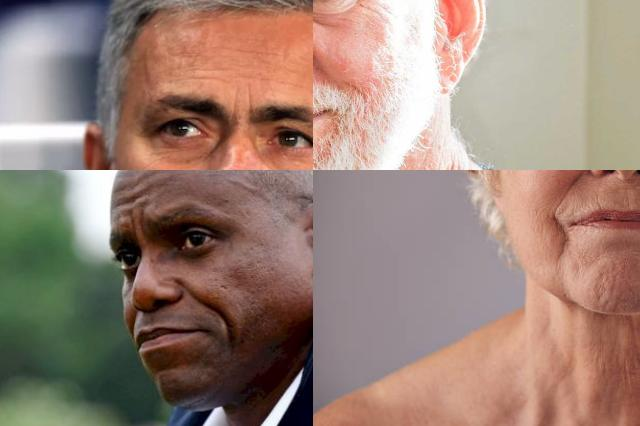chin: (594, 270, 614, 302)
crows_feet: (356, 0, 386, 12)
forehead: (118, 182, 146, 208), (190, 63, 220, 85)
frown_line: (127, 218, 147, 240), (240, 86, 256, 112)
gummy_smile: (181, 280, 221, 316), (555, 170, 586, 208), (125, 312, 141, 334)
sad_smile: (550, 218, 574, 254), (220, 320, 237, 346)
